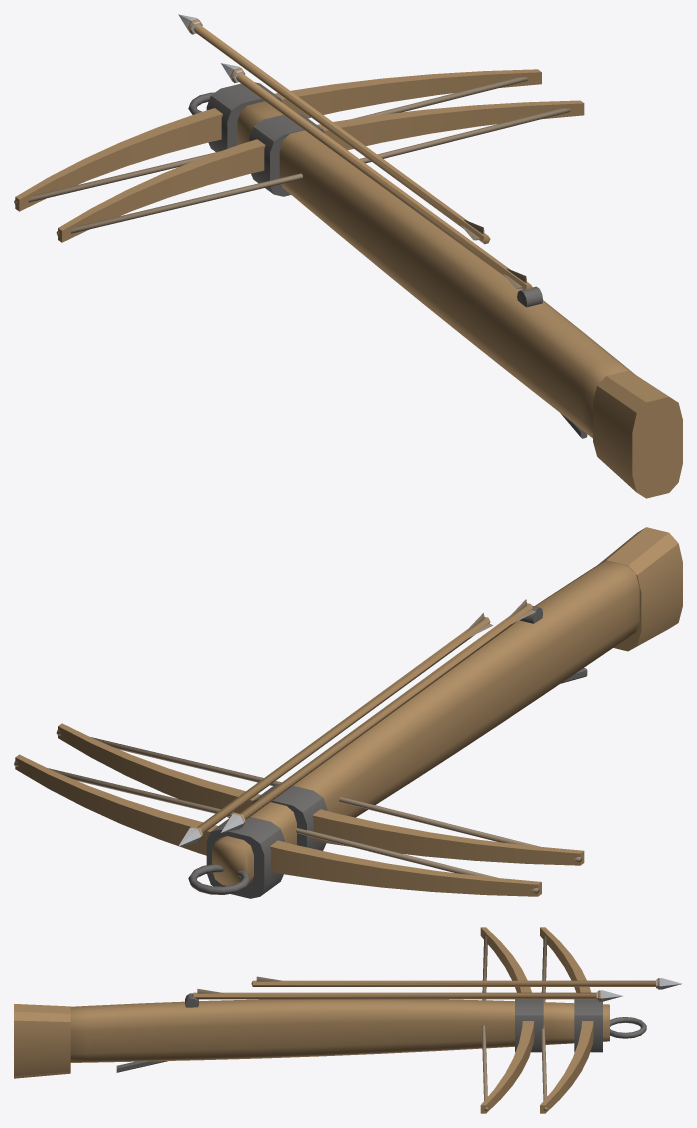
Rendered from double-crossbow.glb.
The picture shows the model from 3 angles, top to bottom: view 1: azimuth 30°, elevation 25°; view 2: azimuth 150°, elevation 25°; view 3: azimuth 270°, elevation 25°; orthographic projection. The views are drawn at different scales.
Parts seen in each view (by area): view 1: double-crossbow; view 2: double-crossbow; view 3: double-crossbow.
Boxes of the visible parts, <box> form: double-crossbow: <box>14,14,682,498</box>; double-crossbow: <box>14,527,682,898</box>; double-crossbow: <box>14,927,682,1113</box>.
Size of the model in its own units: 1.56 by 0.4021 by 2.48.
